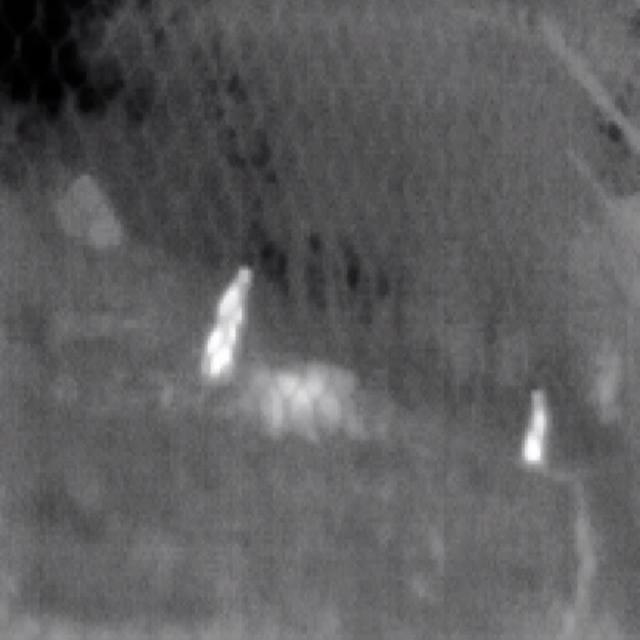cheetah: (201, 269, 252, 380), (525, 391, 547, 460)
